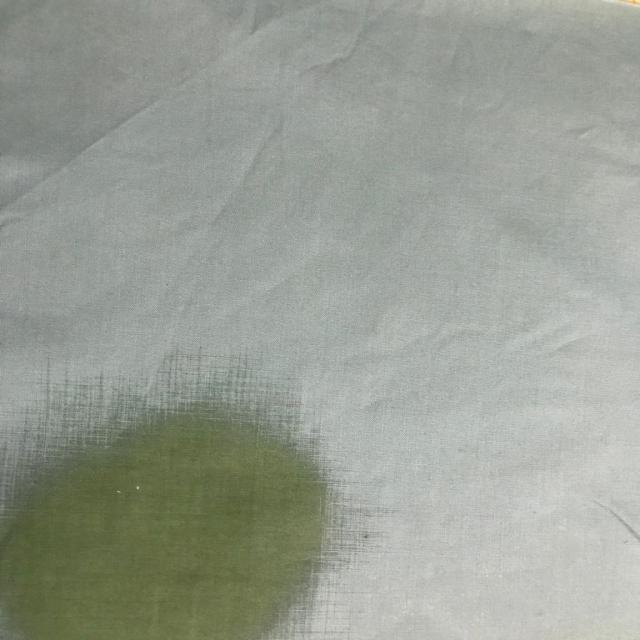Stain: (0, 404, 331, 639)
